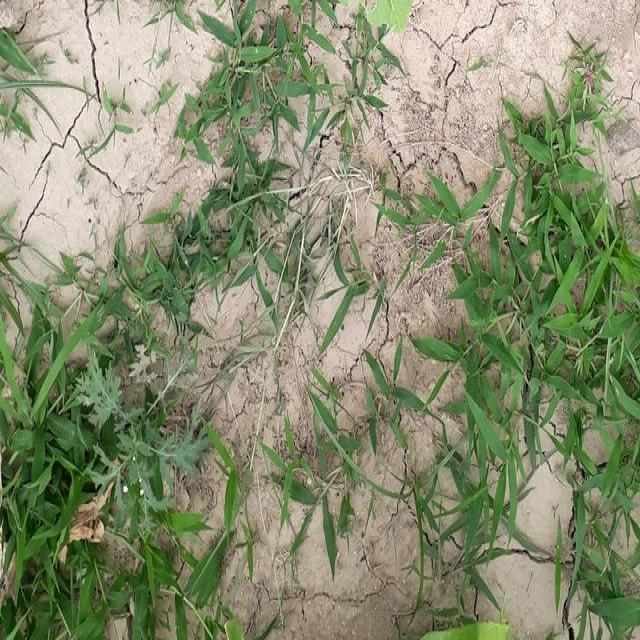weed: (430, 127, 640, 640), (0, 346, 169, 640), (168, 0, 300, 337), (285, 344, 414, 538), (179, 412, 264, 592), (526, 27, 613, 132)
